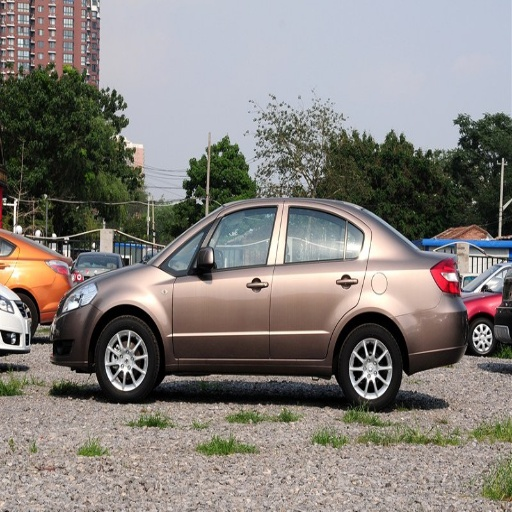back_left_door: (270, 203, 368, 358)
front_left_door: (173, 204, 282, 359)
